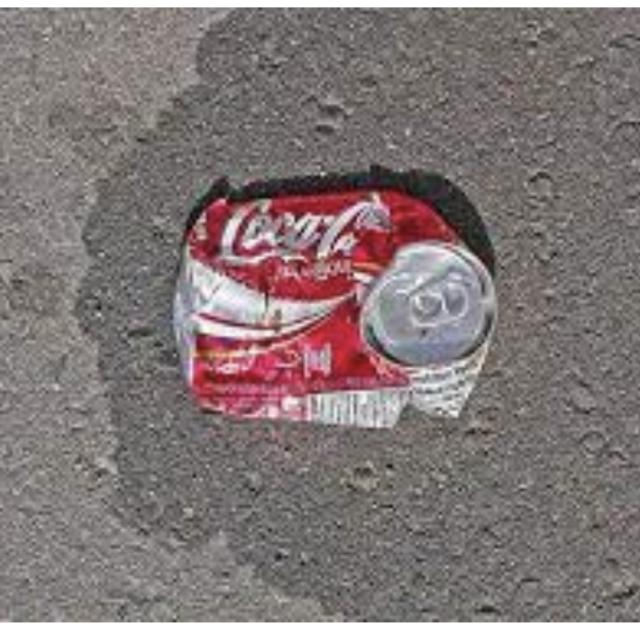recyclable: (161, 162, 504, 446)
